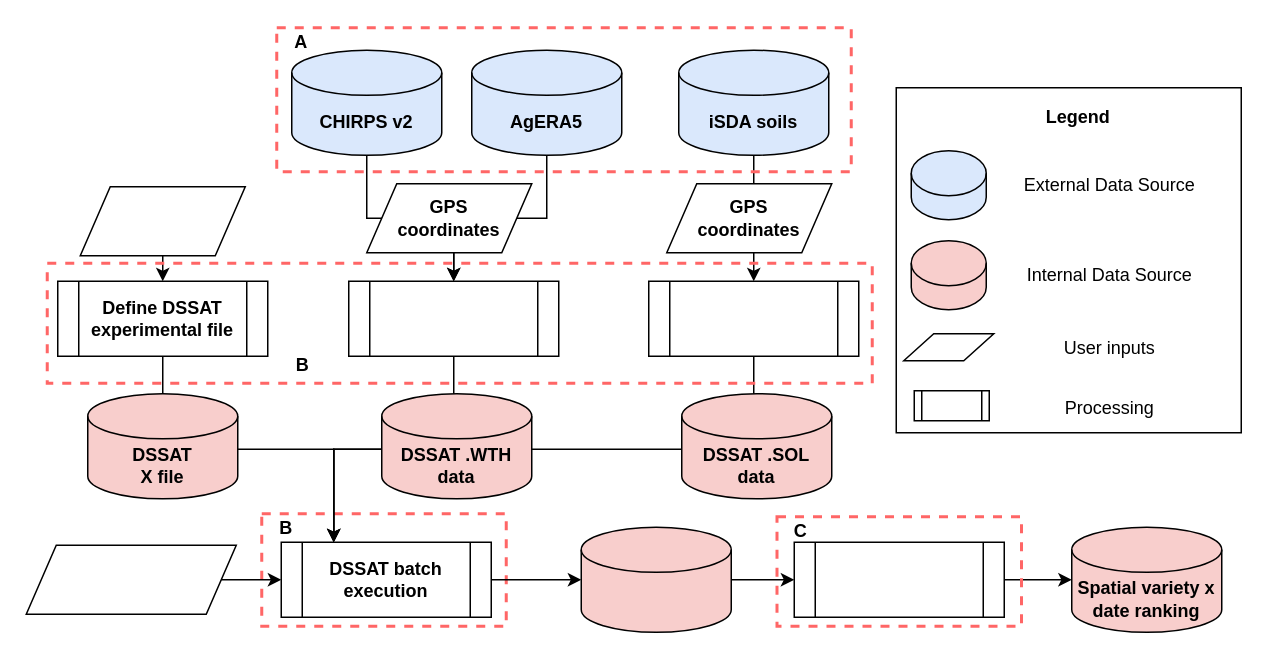
Image size: 1268x659. Some labels were removed from this diagram. Each missing label, with the centre of its shape:
Crop growth database: point (655, 579)
DSSAT .SOL format: point (753, 318)
DSSAT .WTH format: point (453, 318)
DSSAT calibrated varieties: point (130, 579)
Sowing dates: point (162, 220)
Variety and sowing date selection: point (898, 579)
